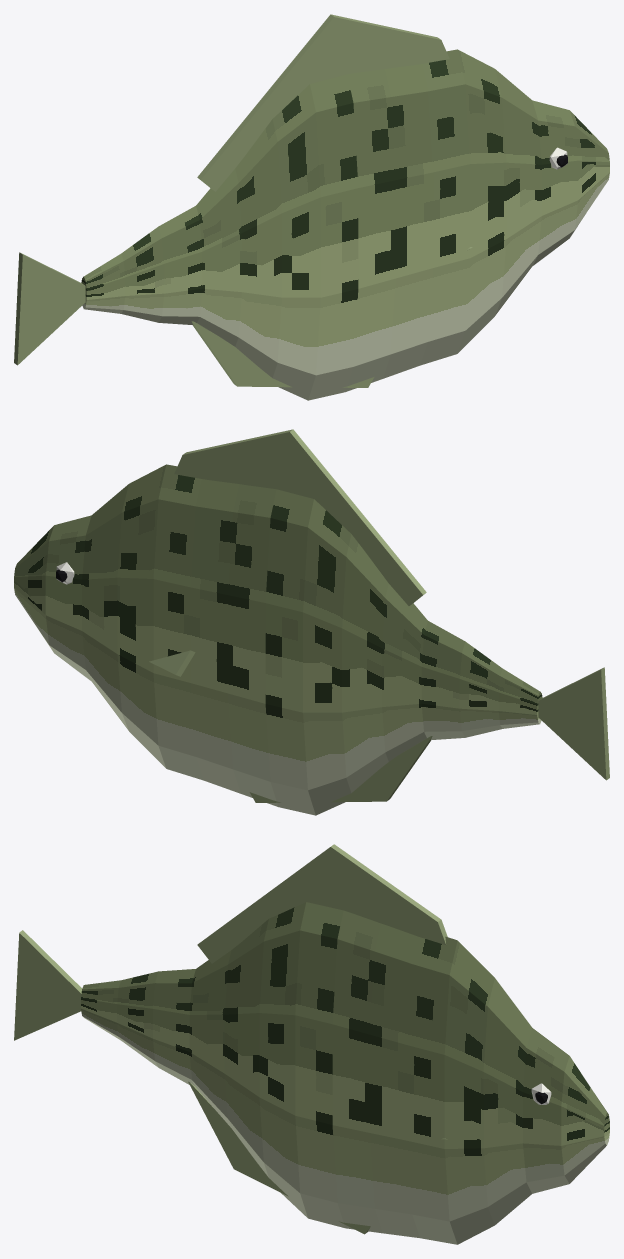
Rendered from spotted_scat.glb.
3 views of the same model, one above another, from view 1: azimuth 30°, elevation 25°; view 2: azimuth 150°, elevation 25°; view 3: azimuth 330°, elevation 25° (orthographic).
Parts seen in each view (by area): view 1: fish_spotted_scat; view 2: fish_spotted_scat; view 3: fish_spotted_scat.
Boxes of the visible parts, x1,y1,x2,y2 form: fish_spotted_scat: (14, 14, 609, 400); fish_spotted_scat: (14, 429, 609, 815); fish_spotted_scat: (14, 844, 609, 1244).
Bounding box in the file's own units: 1.13 × 0.6934 × 0.1177.
Materials: 4 (1 with a texture image).
